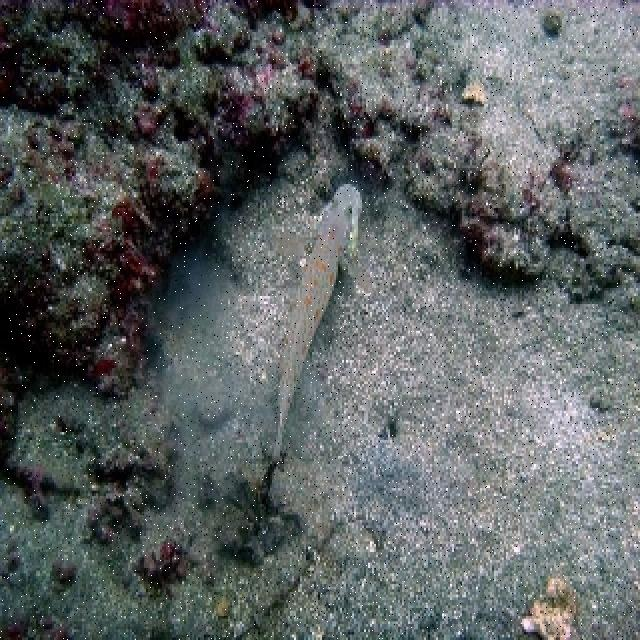fish: (269, 183, 365, 461)
